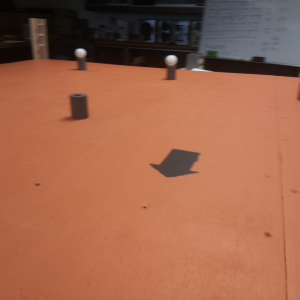corner: (28, 16, 51, 62)
obstacle: (69, 90, 90, 121), (74, 46, 88, 72), (164, 56, 178, 81)
start: (152, 147, 201, 178)
